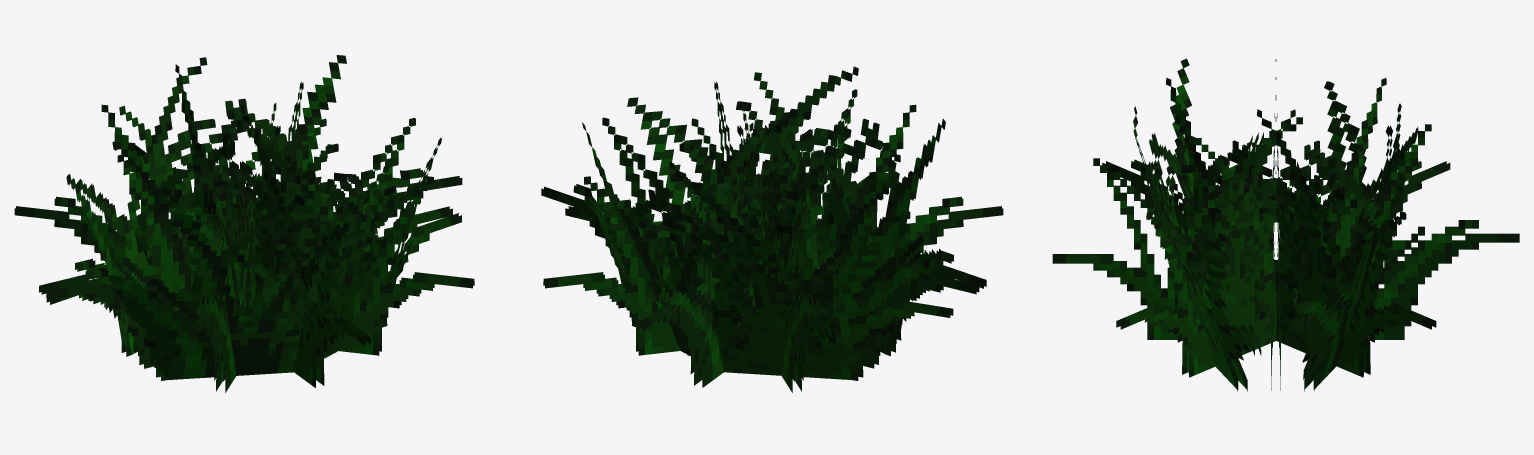
File: grass_bush_summer.glb
3 renders of one model, left to right at view 1: azimuth 30°, elevation 25°; view 2: azimuth 150°, elevation 25°; view 3: azimuth 270°, elevation 25°, orthographic.
Visible parts, largest first — view 1: grass_bush; view 2: grass_bush; view 3: grass_bush.
Part boxes in pixels (box(x1,y1,x2,y2)): grass_bush: box(14, 55, 474, 392); grass_bush: box(541, 66, 1003, 392); grass_bush: box(1052, 58, 1519, 391).
Size of the model in its own units: 0.8016 by 0.4 by 0.8.
1 material, 1 textured.
